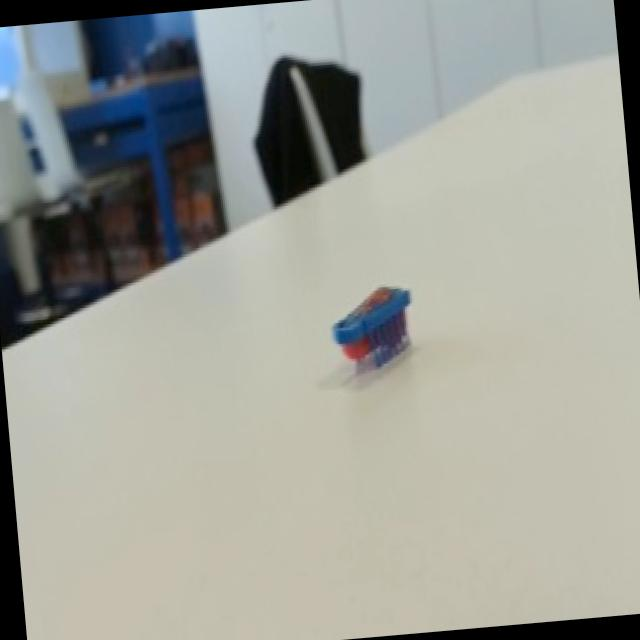1_NanoBug_Azul: (300, 254, 460, 406)
